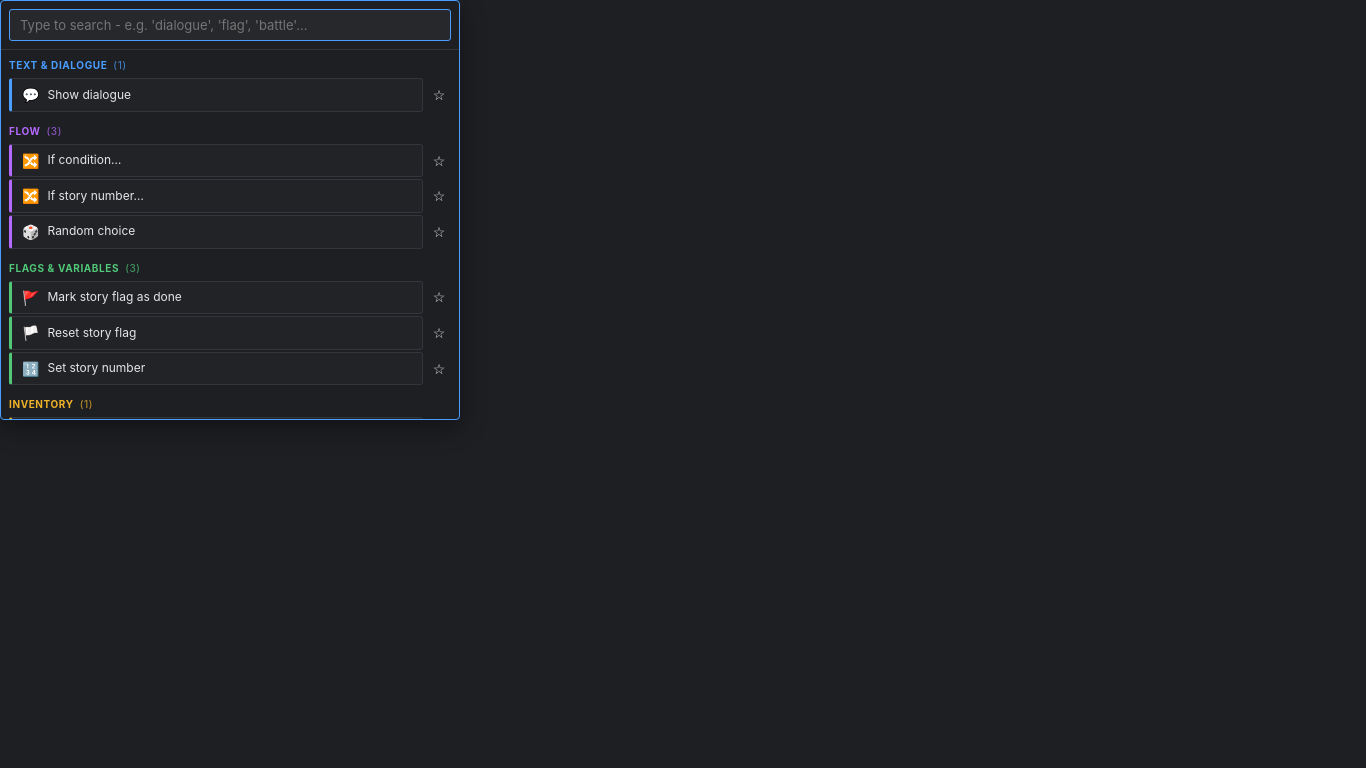
Scenario: AddEventPopover › filtering narrows the list
In the search field with test id "add-event-popover-filter": {"x": 230, "y": 25} [9,9,451,41], type "flag"
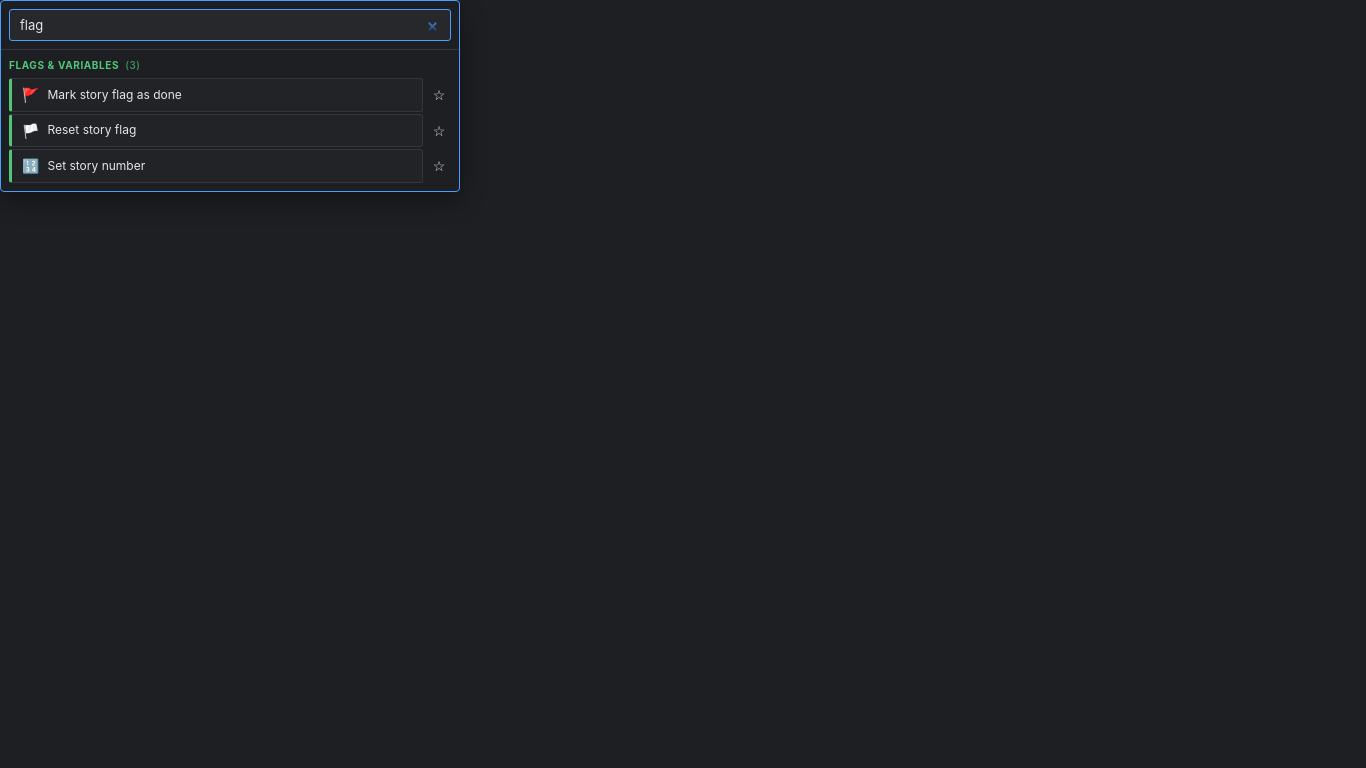
Expected: the button with test id "add-event-popover-pick-set_flag" is shown, [9,78,423,112]
Expected: the button with test id "add-event-popover-pick-dialogue" is gone
